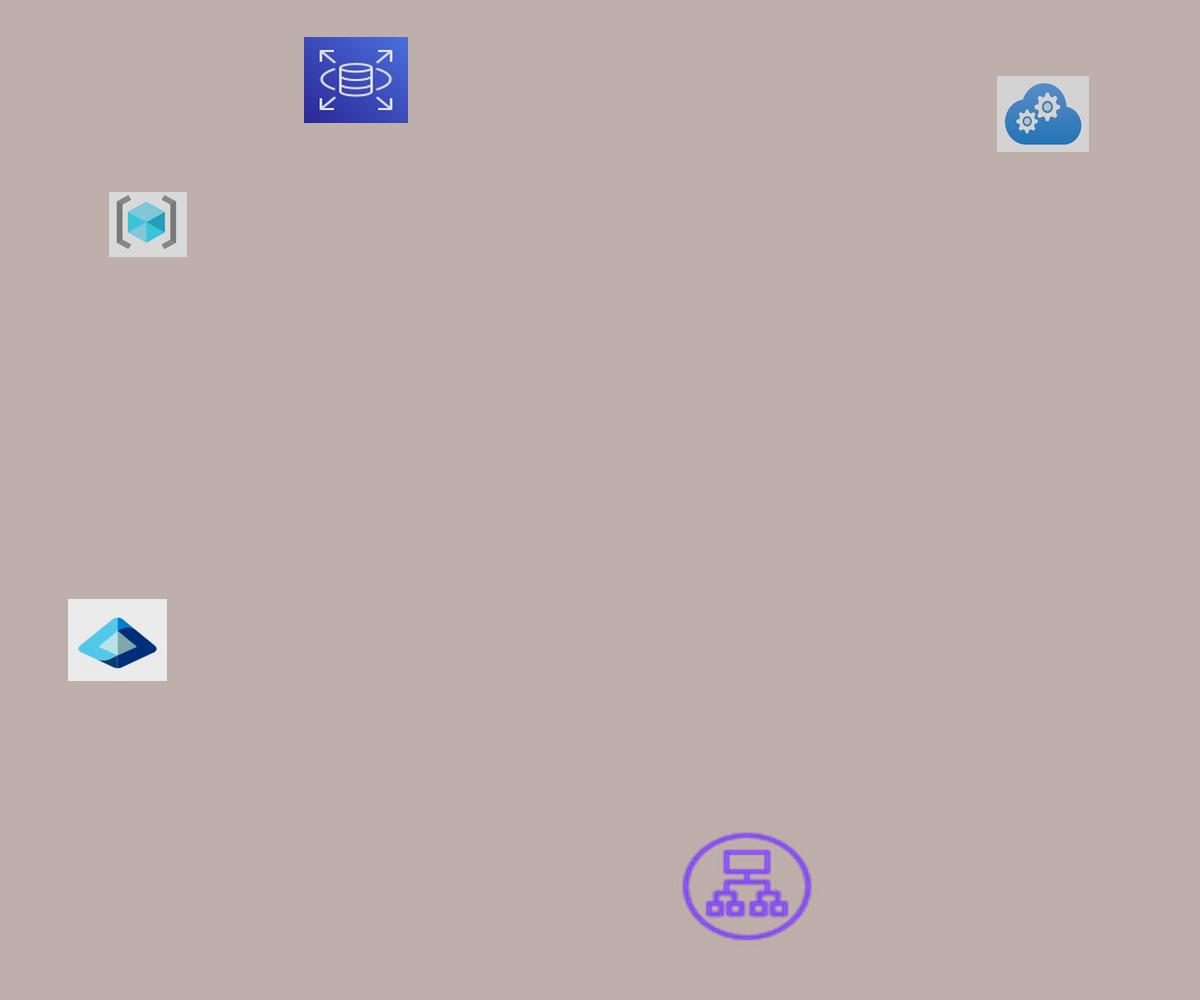AWS-RDS: (304, 37, 408, 123)
AWS-Res_Elastic-Load-Balancing_Application-Load-Balancer: (677, 828, 817, 945)
Azure_cloud_services: (997, 76, 1089, 152)
Azure_microsoft_entra: (68, 599, 167, 681)
Azure_resource_group: (109, 192, 187, 257)
